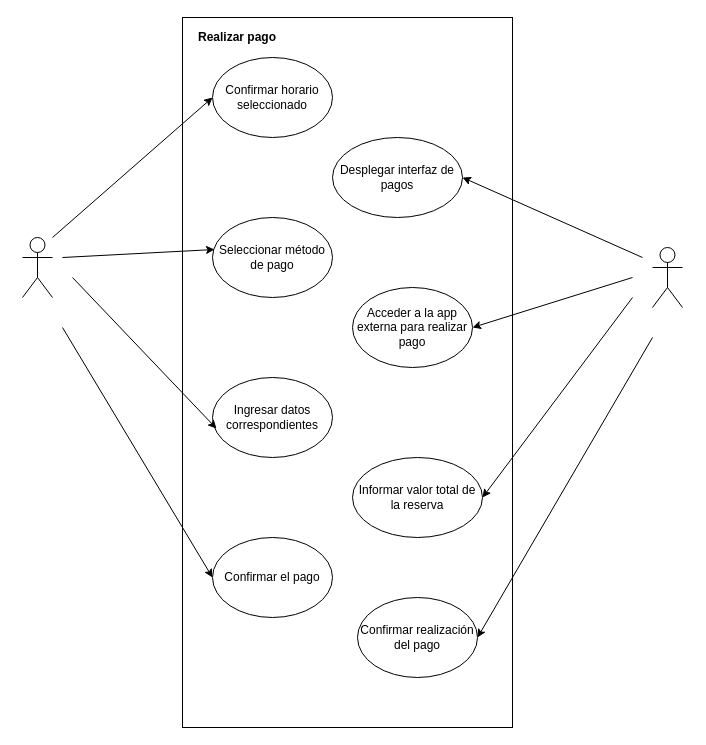
Some shapes in this 706 by 745 pixel diagram are drawn without their labels. Here are the shapes that lost their labels. From the top down, the box of each, then its label:
(22, 236, 52, 298): Usuario
(652, 246, 682, 308): Sistema
